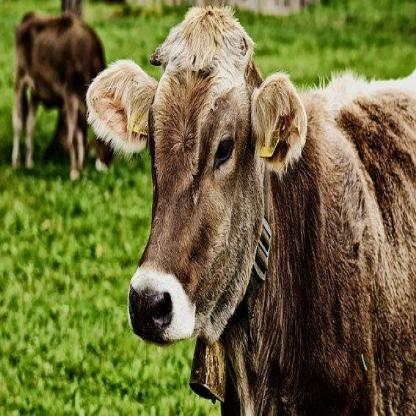cow: (87, 10, 416, 416), (14, 10, 110, 177)
